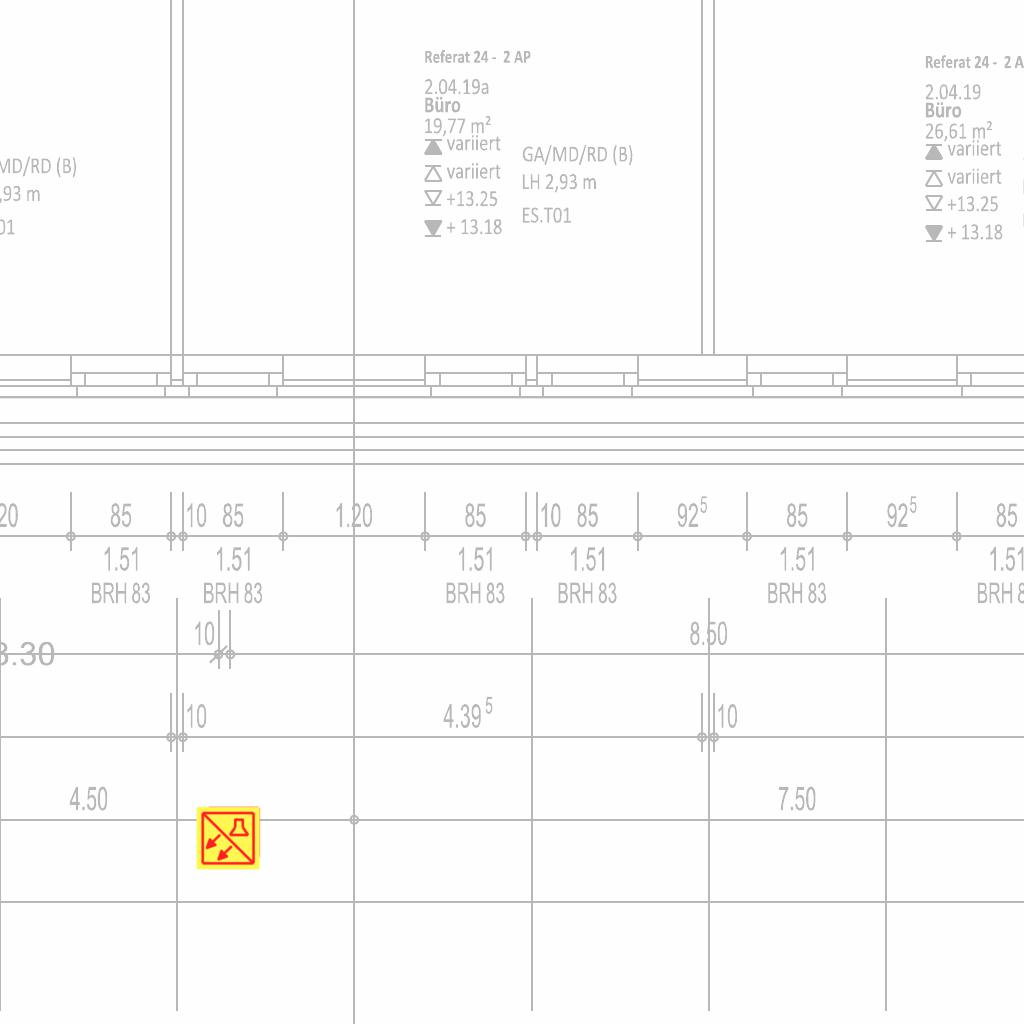OKW_Multisensormelder_(Kombination_optischer_Rauch-Kahlenmonoxid_Waerme-Melder): (195, 805, 261, 871)
